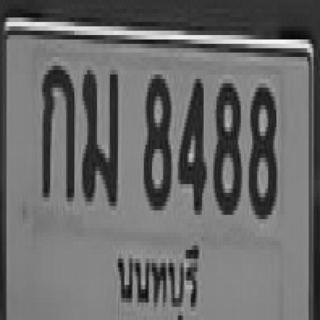A01: (40, 61, 73, 197)
A33: (81, 66, 116, 202)
N04: (178, 74, 205, 210)
N08: (142, 70, 170, 206), (247, 79, 275, 215), (212, 79, 239, 210)
P37: (112, 235, 204, 320)
